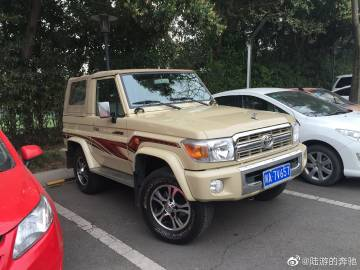other: (56, 66, 302, 249)
